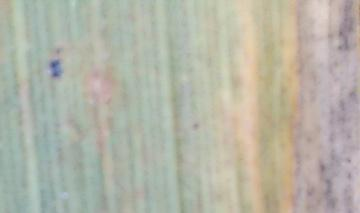tarspot: (340, 1, 357, 35), (321, 177, 338, 208), (341, 183, 355, 213), (46, 56, 64, 78), (336, 36, 352, 52), (347, 90, 359, 103), (327, 60, 339, 72), (91, 70, 101, 82), (337, 98, 345, 112), (328, 130, 337, 142), (327, 103, 336, 115), (325, 30, 335, 40), (329, 147, 336, 161), (305, 187, 314, 197), (337, 115, 346, 125), (327, 116, 336, 126), (54, 45, 63, 54), (191, 121, 199, 131), (318, 163, 326, 172), (344, 156, 353, 164), (345, 170, 353, 179), (345, 131, 352, 141), (305, 135, 312, 143), (337, 30, 343, 37)
